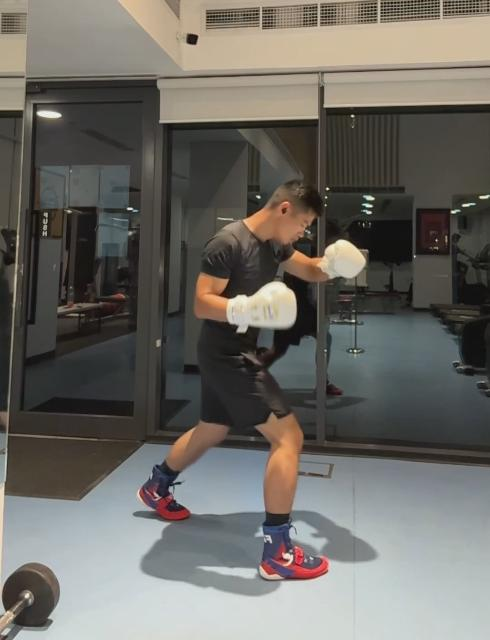punch: (138, 174, 370, 586)
